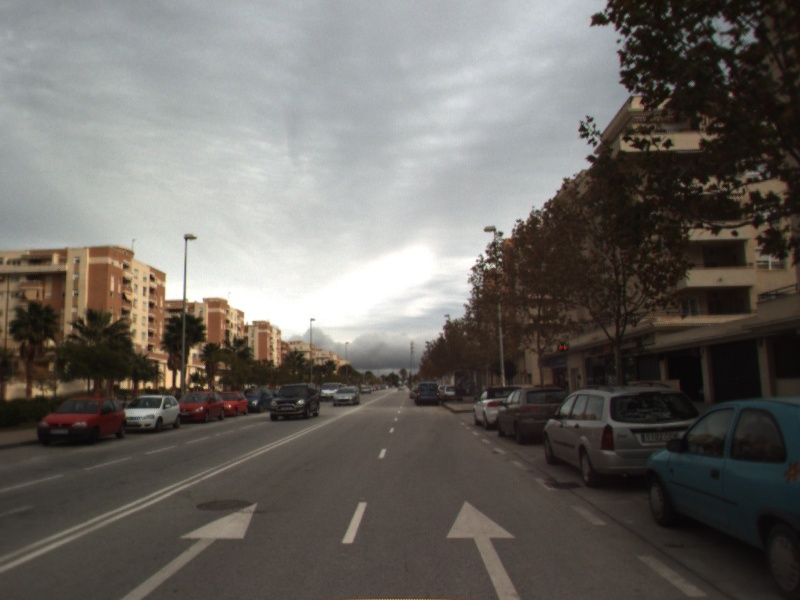STRAIGHT: (116, 498, 262, 600), (444, 498, 524, 600)
